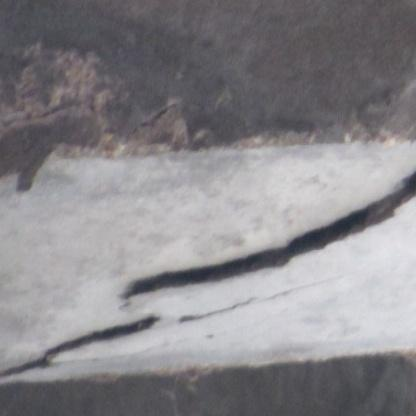Cracks: (115, 160, 416, 306), (0, 312, 166, 385), (176, 294, 259, 328), (265, 276, 332, 306)
